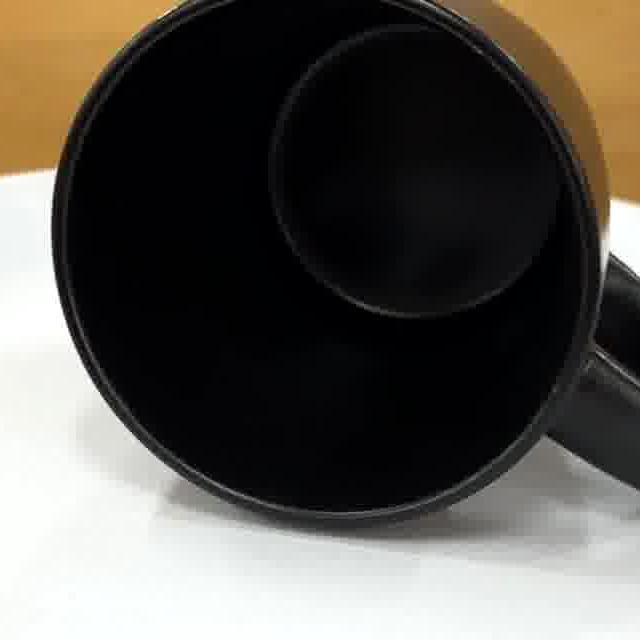cup: (53, 0, 640, 532)
